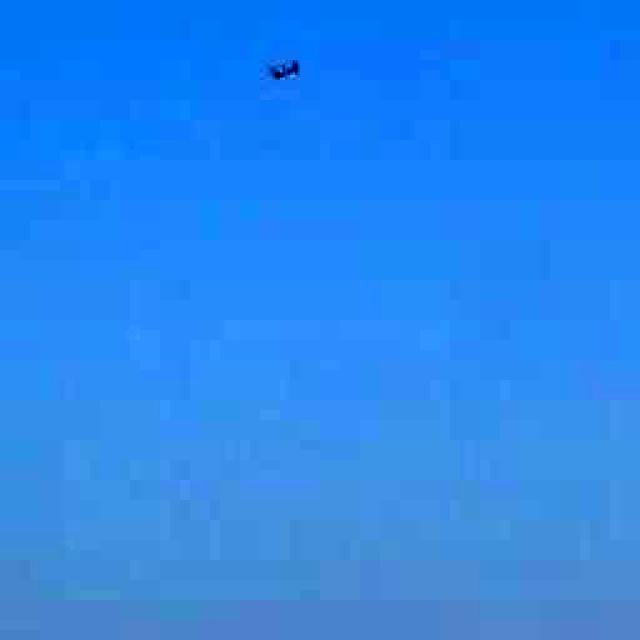bird: (230, 16, 328, 114)
